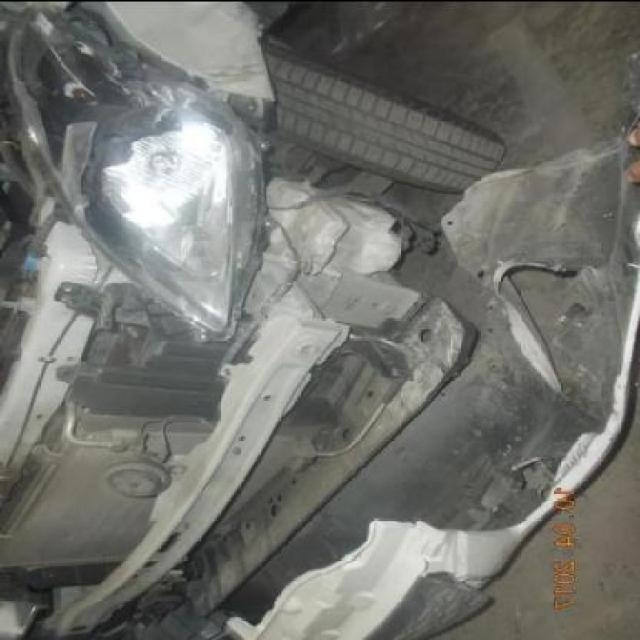damage: (24, 29, 620, 624)
